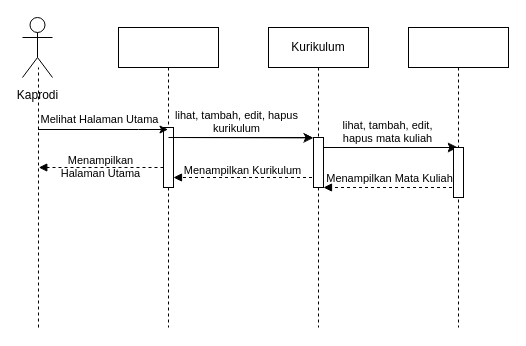
The diagram is 526 pixels wide and 346 high, and some of its shapes have lost their labels. Each missing label, with the centre of its shape:
"Halaman Utama" goes at (x=168, y=177).
"Mata Kuliah" goes at (x=458, y=177).
